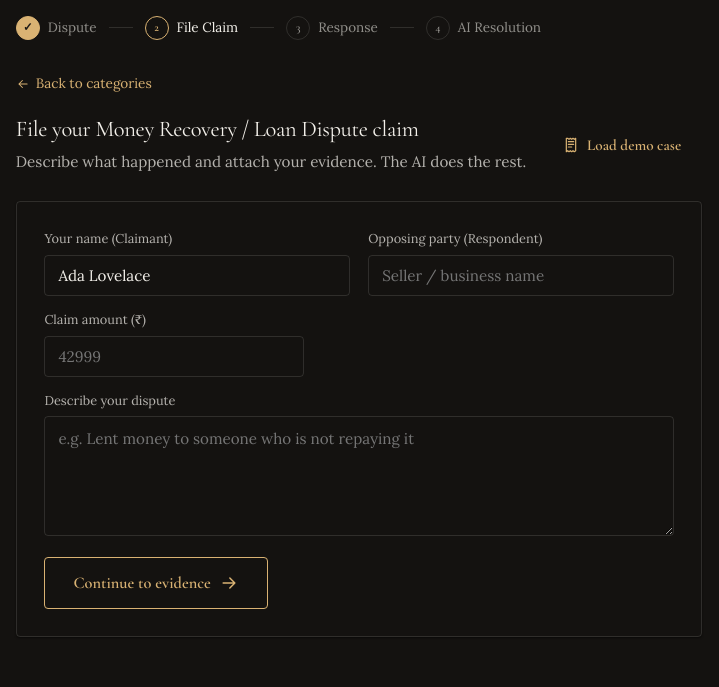
Test case: NewCase › shows the rejected error message and stays on the details step on failure
The image size is (719, 687).
Type "Acme Corp" into the field labelled "Opposing party (Respondent)". click: {"x": 521, "y": 276}
box: [368,255,674,296]
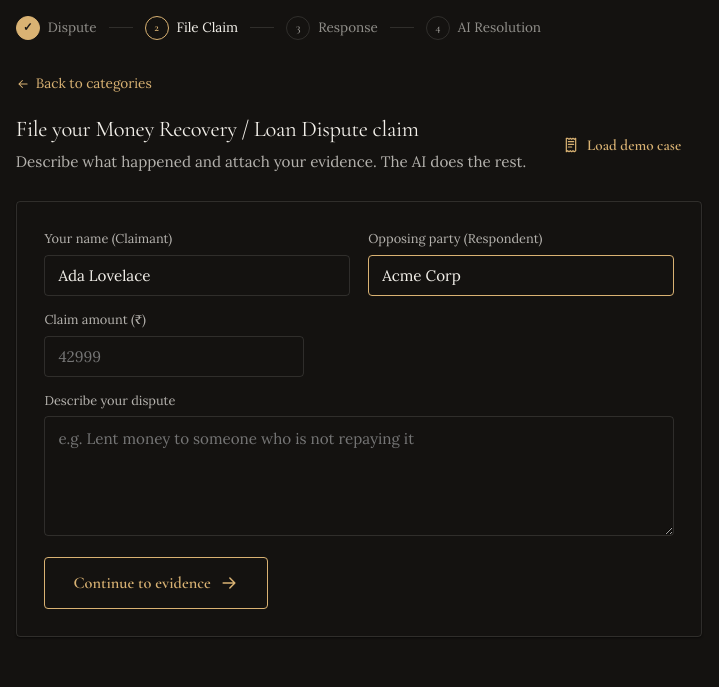
Type "15000" into the number field labelled "Claim amount (₹)". click: {"x": 174, "y": 356}
box: [44,336,304,377]
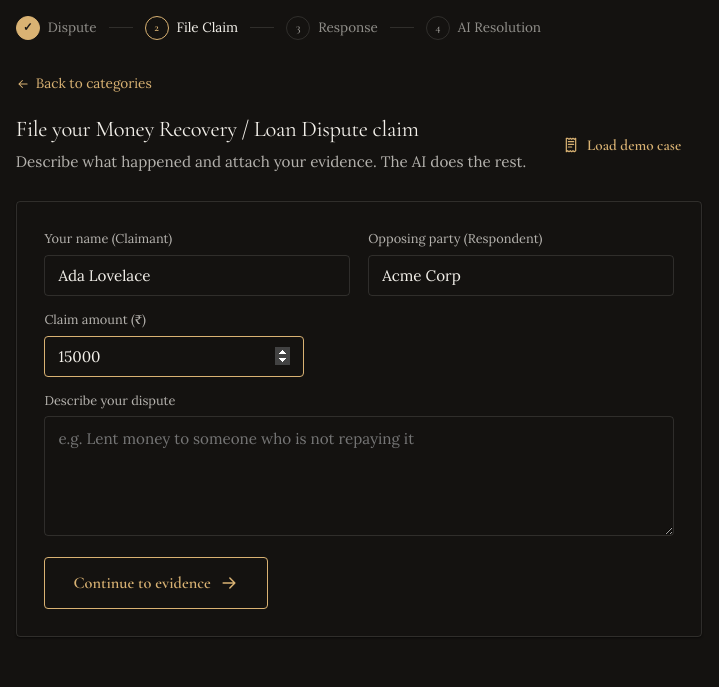
Type "They never delivered the goods." into the text box labelled "Describe your dispute". click: {"x": 359, "y": 476}
box: [44,416,674,536]
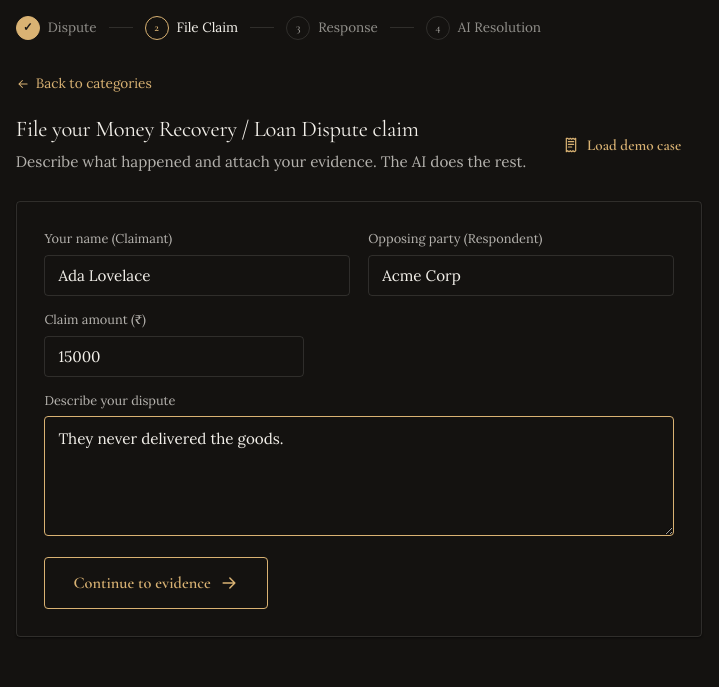
Click the button "Continue to evidence". click: {"x": 156, "y": 582}
box: [44,556,268,608]
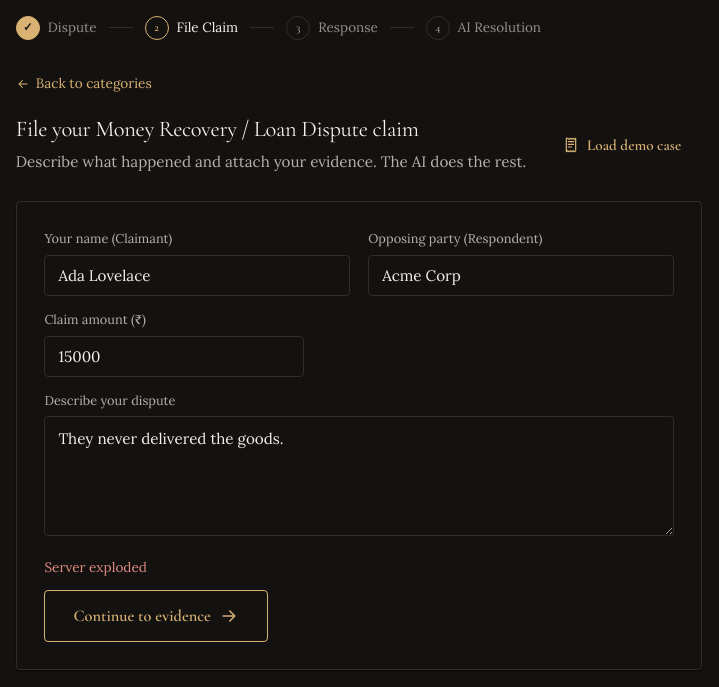
Expected: the text "Server exploded" is shown, [44,558,147,576]
